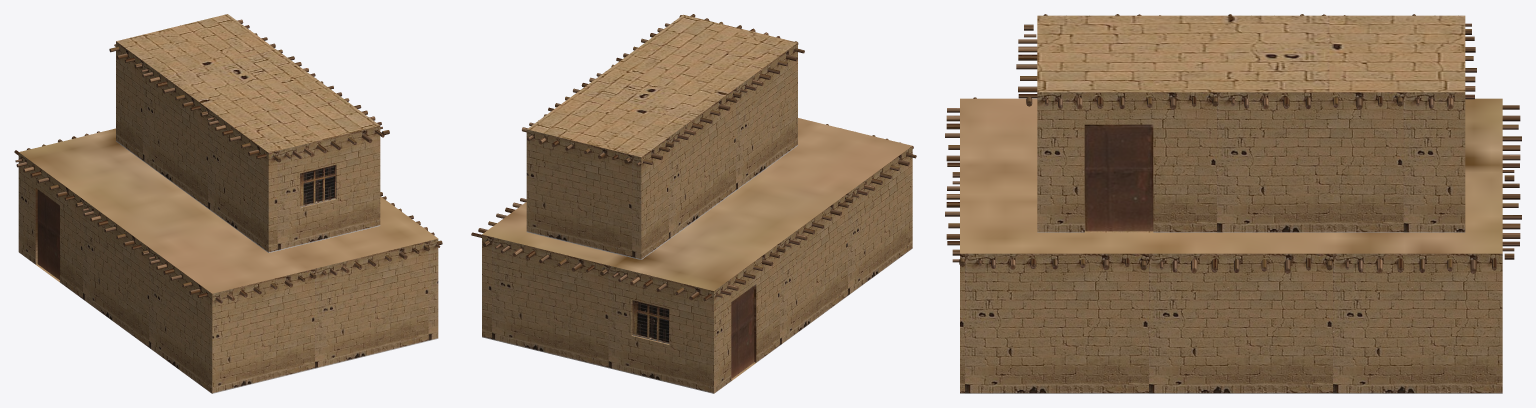
Rendered from home2.fbx.
The picture shows the model from 3 angles, left to right: view 1: azimuth 30°, elevation 25°; view 2: azimuth 150°, elevation 25°; view 3: azimuth 270°, elevation 25°; orthographic projection. The views are drawn at different scales.
Visible parts, largest first — view 1: home2; view 2: home2; view 3: home2.
Boxes of the visible parts, left/top/right/bottom form: home2: left=14, top=14, right=442, bottom=393; home2: left=471, top=14, right=916, bottom=393; home2: left=945, top=14, right=1521, bottom=393.
Size of the model in its own units: 522 by 400 by 744.
1 material, 1 textured.
